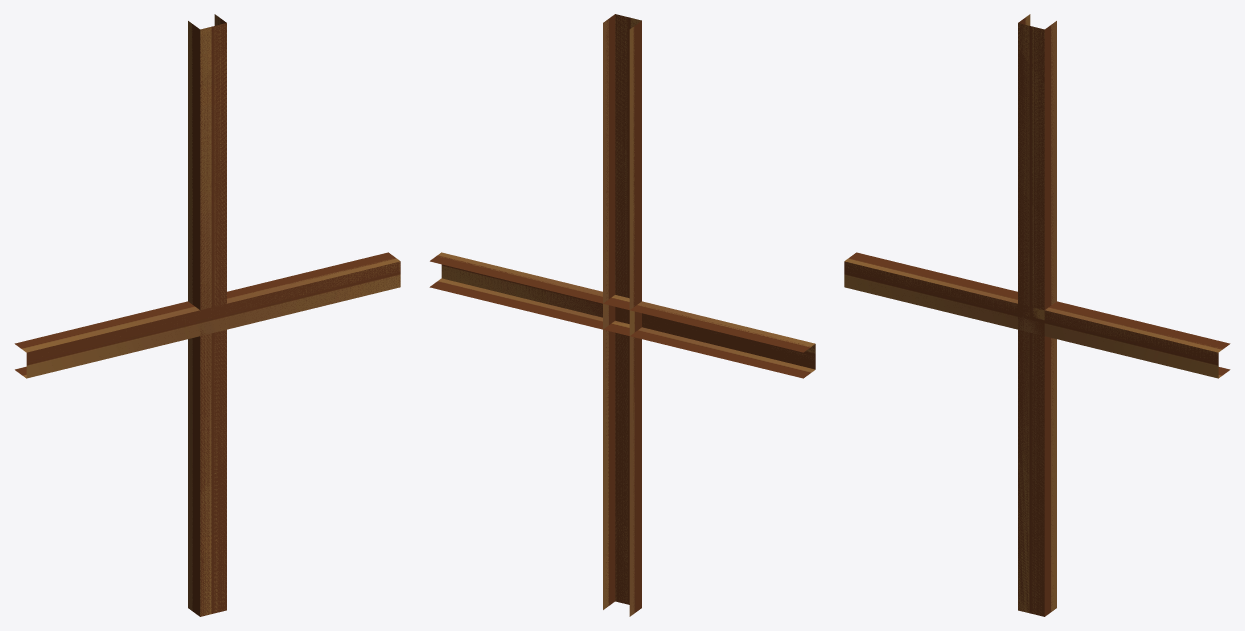
The model's file is huakuang006.obj.
3 renders of one model, left to right at view 1: azimuth 30°, elevation 25°; view 2: azimuth 150°, elevation 25°; view 3: azimuth 330°, elevation 25°, orthographic.
Visible parts, largest first — view 1: Right, Left, Top, Bottom; view 2: Right, Left, Bottom, Top; view 3: Right, Top, Left, Bottom.
Boxes of the visible parts, <box> form: Right: <box>188,14,226,616</box>; Left: <box>188,16,226,616</box>; Top: <box>15,252,400,378</box>; Bottom: <box>15,253,400,378</box>; Right: <box>603,14,641,615</box>; Left: <box>603,14,641,616</box>; Bottom: <box>430,252,815,378</box>; Top: <box>429,252,815,376</box>; Right: <box>1018,14,1056,616</box>; Top: <box>844,252,1230,378</box>; Left: <box>1018,15,1056,615</box>; Bottom: <box>844,253,1228,377</box>.
Bounding box in the file's own units: 1 × 1.5 × 0.0566.
Materials: 1 (1 with a texture image).
